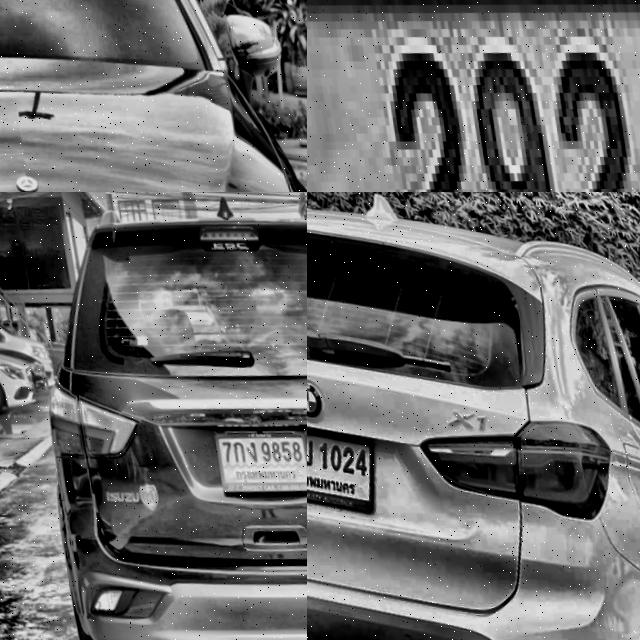license-plate: (307, 0, 640, 192), (307, 402, 380, 519), (204, 420, 307, 500)
